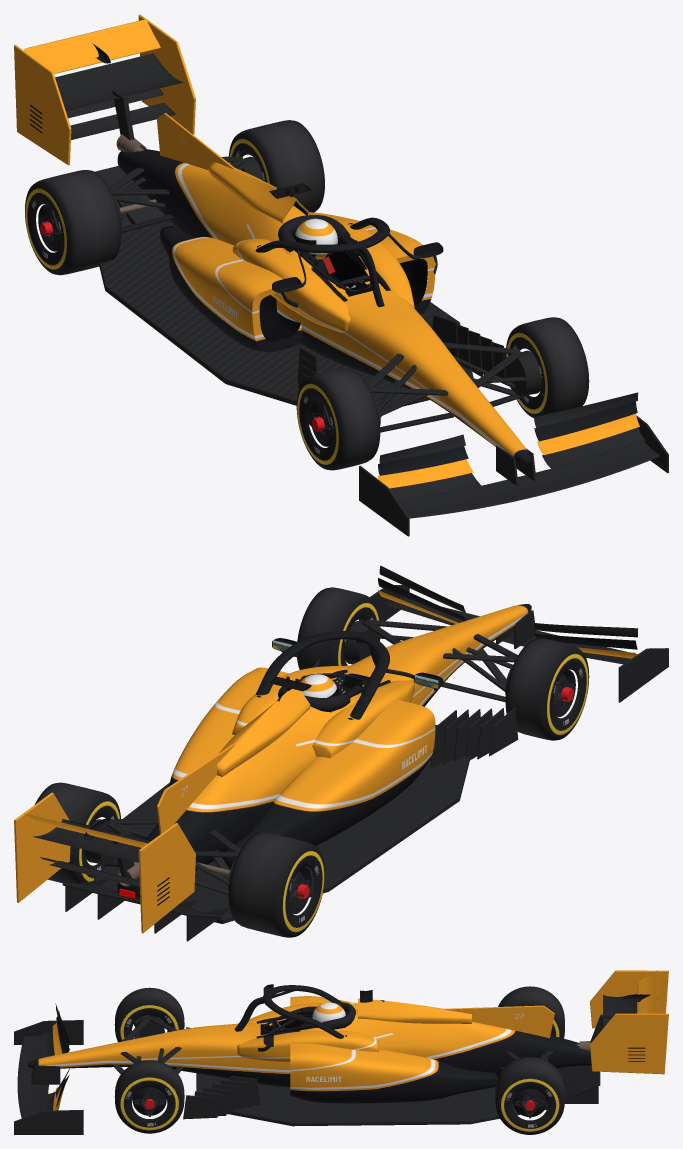
Rendered from car_2017.glb.
3 renders of one model, top to bottom at view 1: azimuth 30°, elevation 25°; view 2: azimuth 150°, elevation 25°; view 3: azimuth 270°, elevation 25°, orthographic. The views are drawn at different scales.
Parts seen in each view (by area): view 1: RL_Car, RL_HideInCockpit_0, RL_WheelSpin_RR, RL_WheelSpin_FR, RL_WheelSpin_FL, RL_WheelSpin_RL, RL_HideInCockpit_4; view 2: RL_Car, RL_HideInCockpit_0, RL_WheelSpin_RR, RL_WheelSpin_FR, RL_WheelSpin_FL, RL_WheelSpin_RL, RL_HideInCockpit_4; view 3: RL_Car, RL_HideInCockpit_0, RL_WheelSpin_RL, RL_WheelSpin_FL, RL_WheelSpin_FR, RL_WheelSpin_RR, RL_HideInCockpit_4, RL_HideInCockpit_3.
Part boxes in pixels (x1,y1,x2,y2): RL_Car: (14,14,668,536); RL_HideInCockpit_0: (117,148,531,464); RL_WheelSpin_RR: (25,170,121,275); RL_WheelSpin_FR: (296,368,380,470); RL_WheelSpin_FL: (505,317,589,417); RL_WheelSpin_RL: (228,120,324,212); RL_HideInCockpit_4: (295,218,337,259); RL_Car: (14,565,668,941); RL_HideInCockpit_0: (117,604,531,899); RL_WheelSpin_RR: (228,832,324,937); RL_WheelSpin_FR: (505,638,589,740); RL_WheelSpin_FL: (297,587,380,669); RL_WheelSpin_RL: (34,782,120,883); RL_HideInCockpit_4: (300,674,336,697); RL_Car: (14,970,668,1134); RL_HideInCockpit_0: (28,1009,591,1087); RL_WheelSpin_RL: (495,1057,564,1134); RL_WheelSpin_FL: (114,1060,184,1133); RL_WheelSpin_FR: (114,987,184,1042); RL_WheelSpin_RR: (498,986,564,1038); RL_HideInCockpit_4: (312,1002,345,1022); RL_HideInCockpit_3: (263,1006,316,1033).
Bounding box in the file's own units: 2.05 × 1.06 × 6.2.
Materials: 69 (16 with a texture image).
